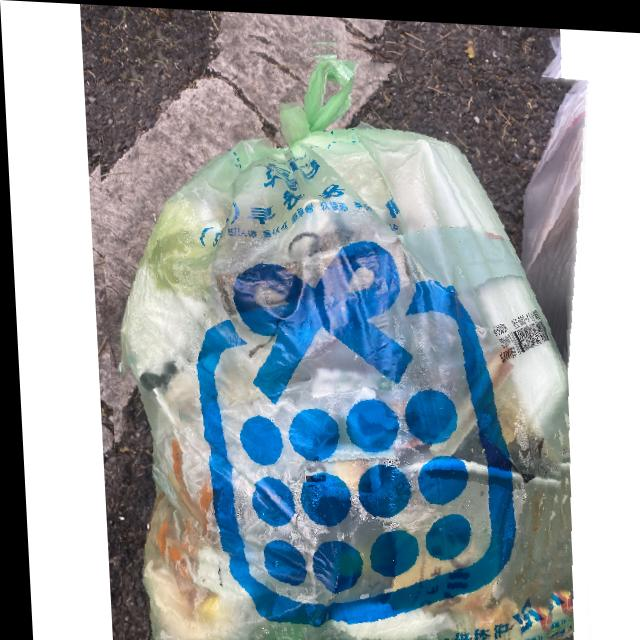general_trashbag: (113, 37, 587, 640)
